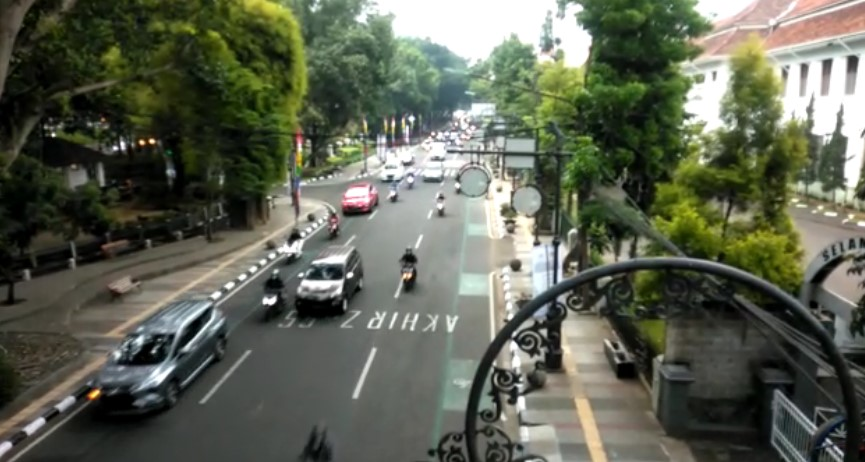mobil: (89, 294, 228, 417), (297, 246, 367, 323), (342, 182, 378, 213)
motor: (257, 267, 286, 323), (397, 248, 427, 291), (281, 228, 304, 263), (324, 211, 342, 242), (433, 190, 446, 218)
